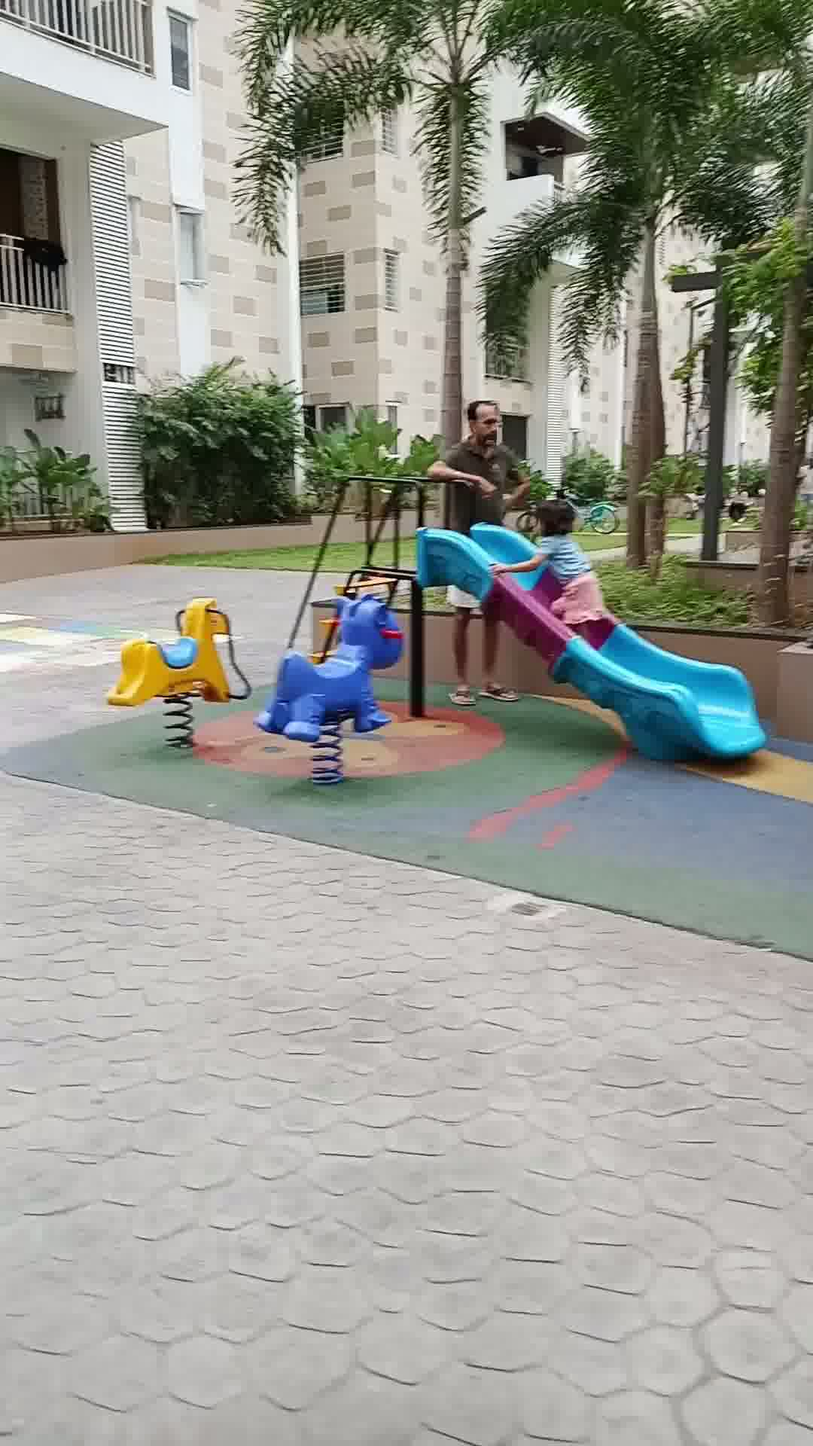person: (430, 379, 543, 732), (518, 433, 612, 706)
tree: (225, 6, 578, 515), (498, 0, 757, 581), (691, 0, 813, 621)
